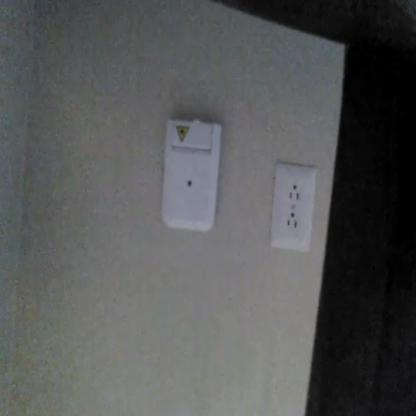OUTLET: (271, 168, 316, 252)
